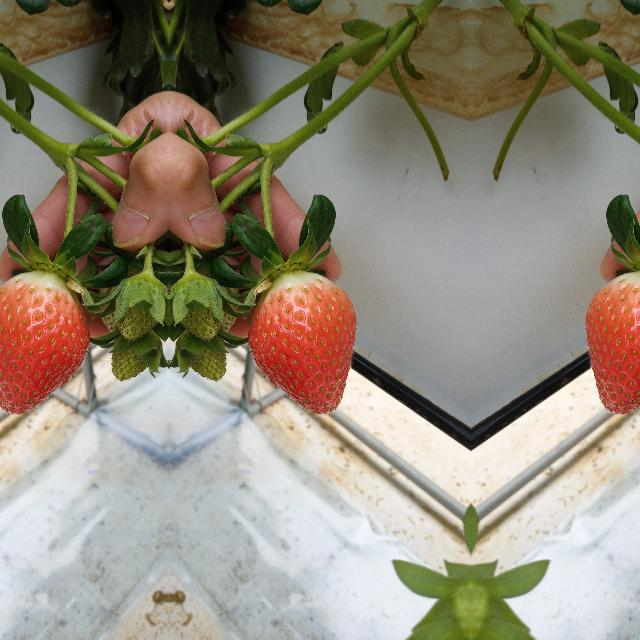Health_100: (246, 270, 356, 414), (0, 269, 90, 414), (585, 269, 640, 414)
Health_25: (168, 258, 218, 338), (119, 258, 168, 338)
